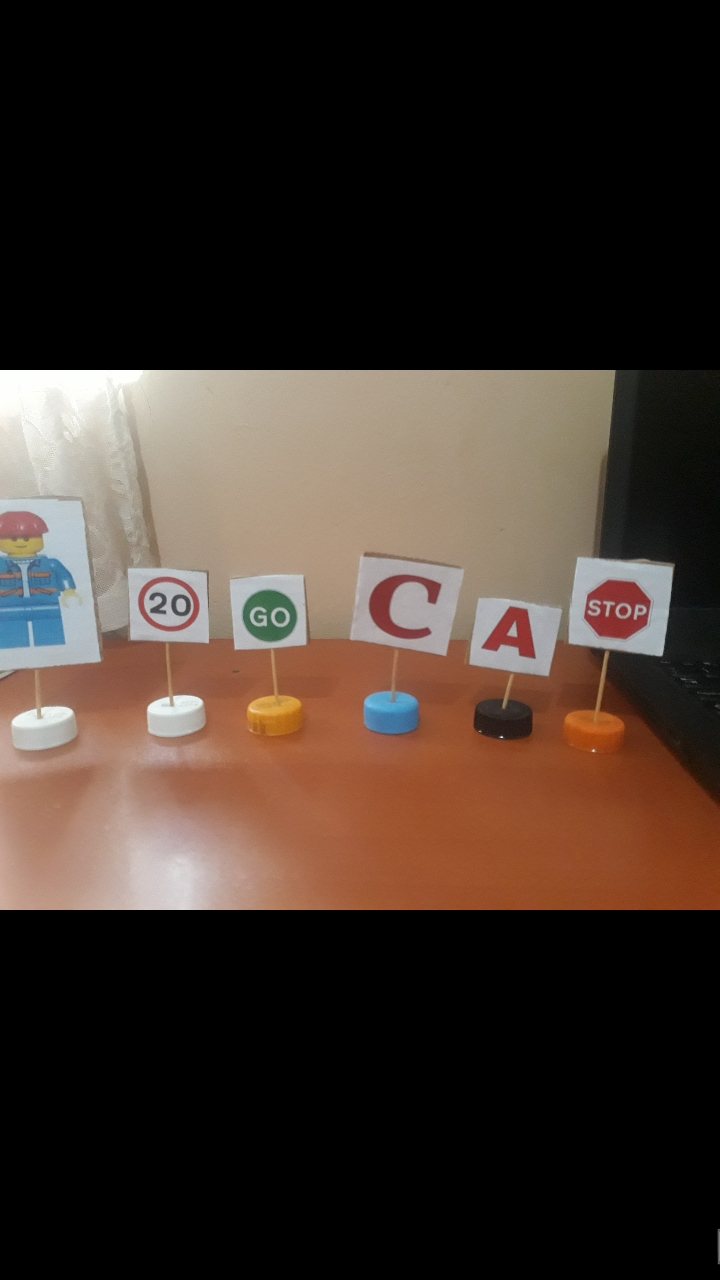20 kph: (130, 566, 208, 639)
go: (230, 574, 300, 649)
pedestrian: (1, 502, 83, 655)
stop: (585, 563, 661, 651)
zone A: (479, 594, 544, 678)
zone C: (363, 555, 450, 659)
